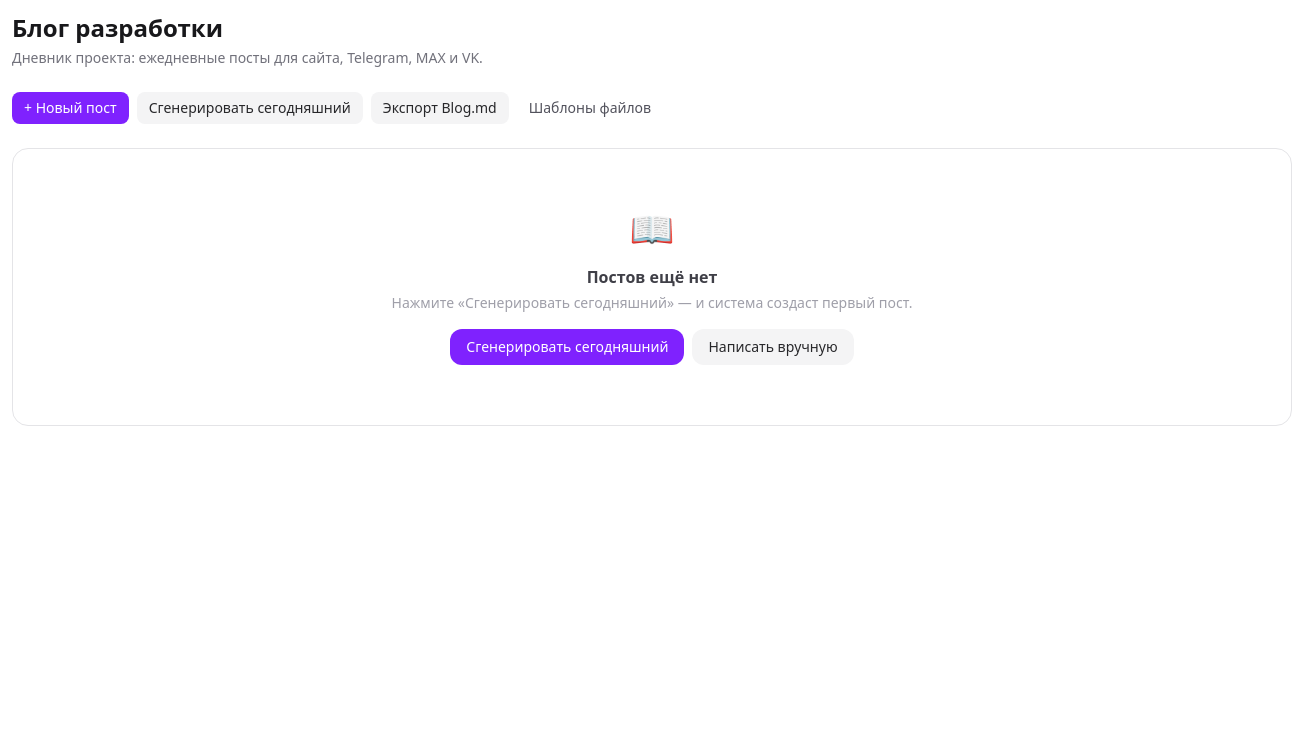
Test: B. Create post — toolbar "+ Новый пост" › clicking "+ Новый пост" makes the empty state disappear
Check: the text "Постов ещё нет" is shown, box [587,266,717,288]
Click the button "+ Новый пост": (70, 108) [12,92,129,124]
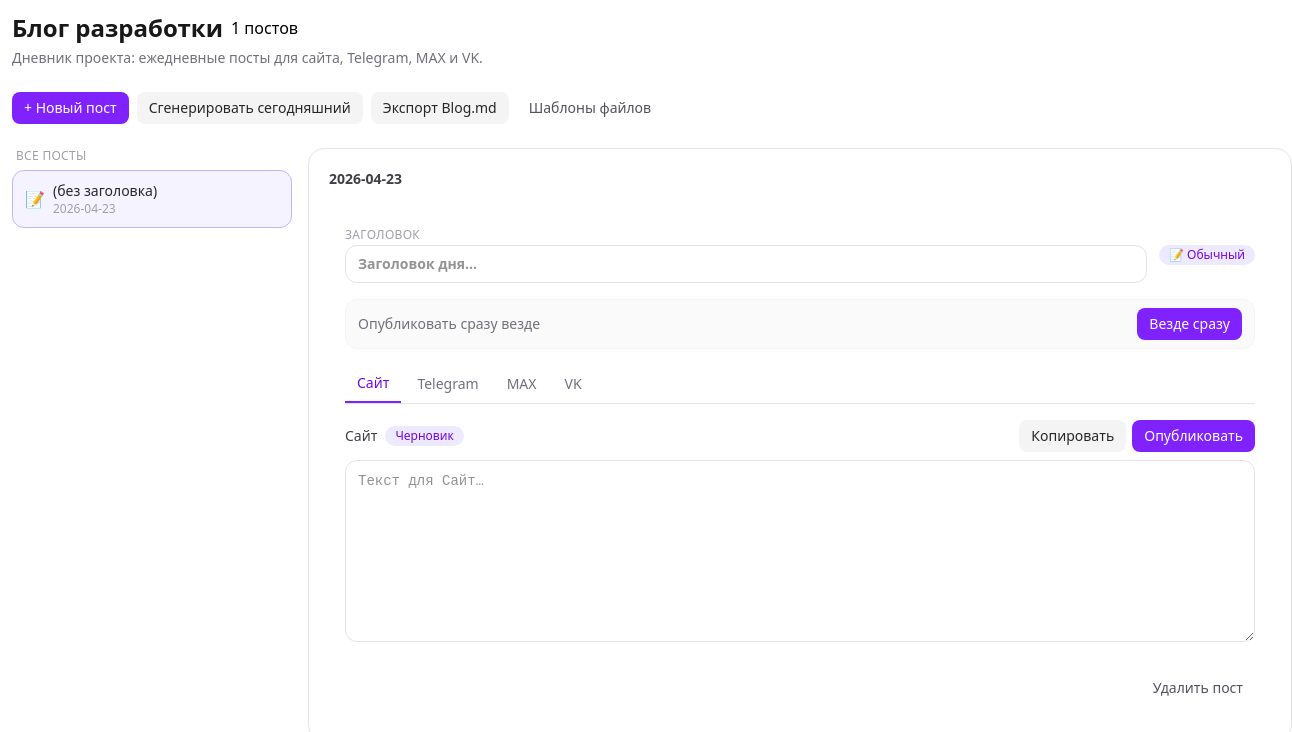
Check: the text "Постов ещё нет" is gone
